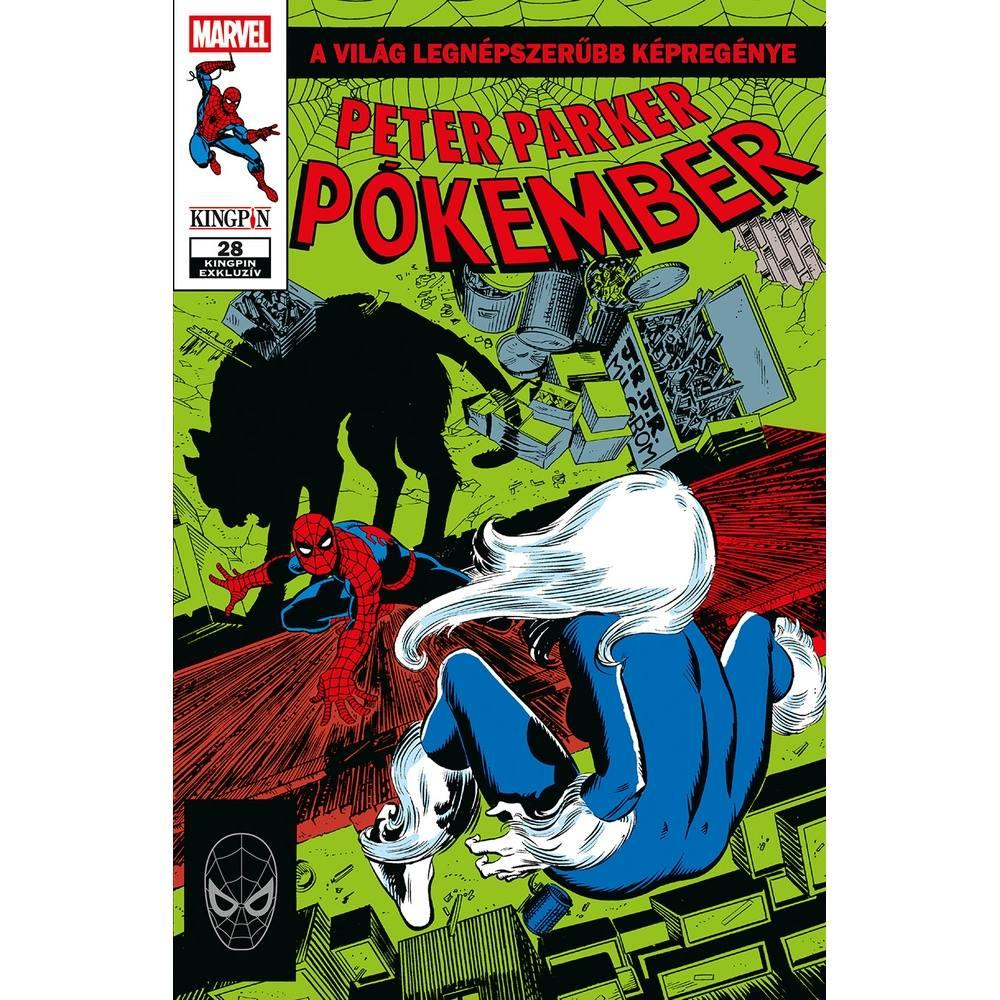comic: (173, 0, 824, 999)
